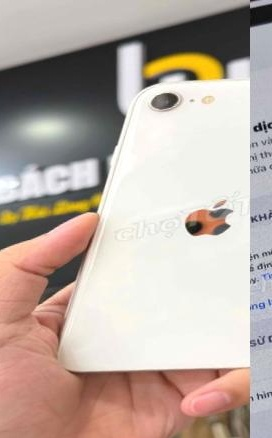scratch: (171, 198, 238, 246)
